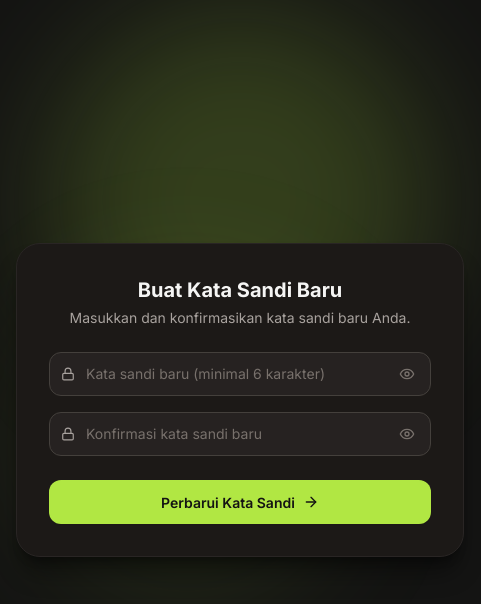
Scenario: ResetPasswordPage Component › submits valid passwords and shows success message
Type "ValidPass123!" into the password field with placeholder "Kata sandi baru (minimal 6 karakter)" at x=240, y=374, box [49,352,431,396]
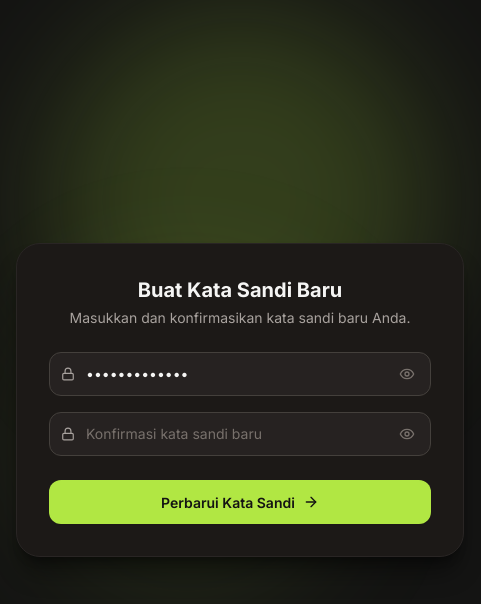
Type "ValidPass123!" into the password field with placeholder "Konfirmasi kata sandi baru" at x=240, y=434, box [49,412,431,456]
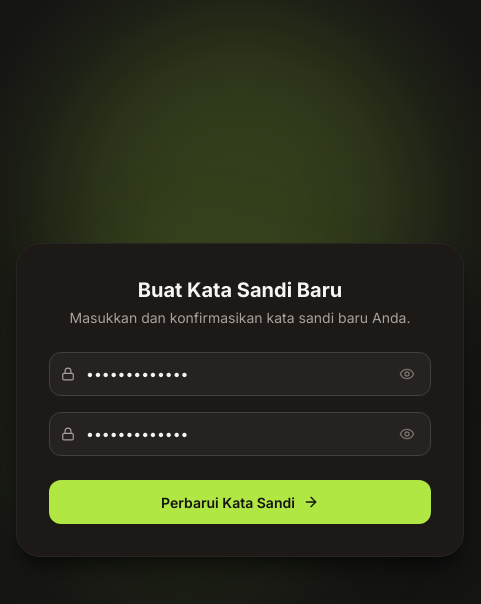
Click the button "Perbarui Kata Sandi" at x=240, y=502, box [49,480,431,524]
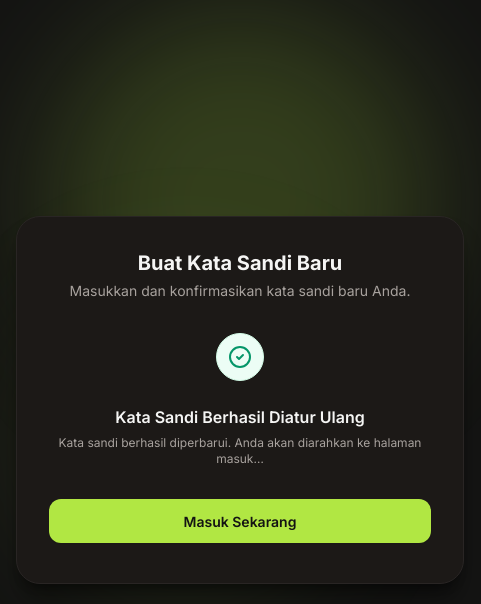
expect the heading "Kata Sandi Berhasil Diatur Ulang" is shown: met, box [115,407,365,427]
